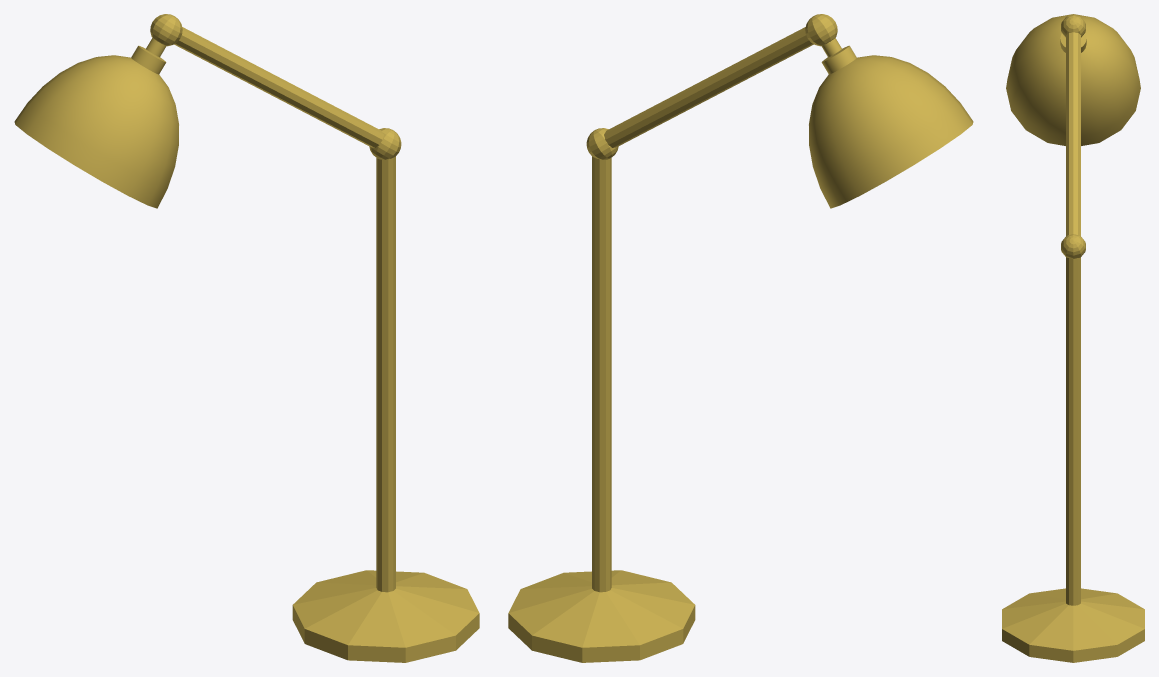
The model's file is fbx_standing_lamp.fbx.
The picture shows the model from 3 angles, left to right: view 1: azimuth 30°, elevation 25°; view 2: azimuth 150°, elevation 25°; view 3: azimuth 270°, elevation 25°; orthographic projection. The views are drawn at different scales.
Visible parts, largest first — view 1: fbx_standing_lamp; view 2: fbx_standing_lamp; view 3: fbx_standing_lamp.
Part boxes in pixels (left/top/right/bottom): fbx_standing_lamp: left=14, top=14, right=479, bottom=662; fbx_standing_lamp: left=508, top=14, right=973, bottom=662; fbx_standing_lamp: left=1002, top=14, right=1144, bottom=662.
Bounding box in the file's own units: 1.14 × 1.63 × 0.3991.
1 material, 1 textured.
